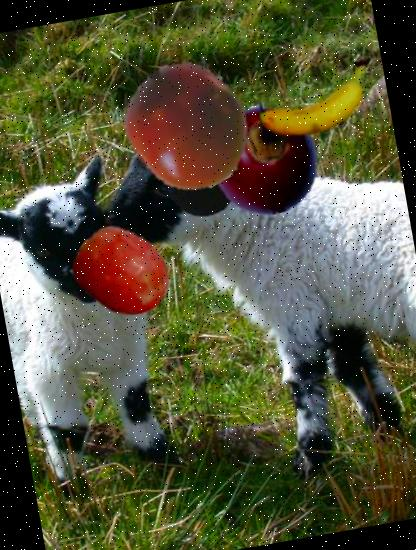Banana: (253, 33, 377, 157)
Grape: (66, 214, 180, 328), (158, 131, 252, 224)
Tamarillo: (201, 95, 330, 224)
Tomato: (113, 52, 262, 201)
